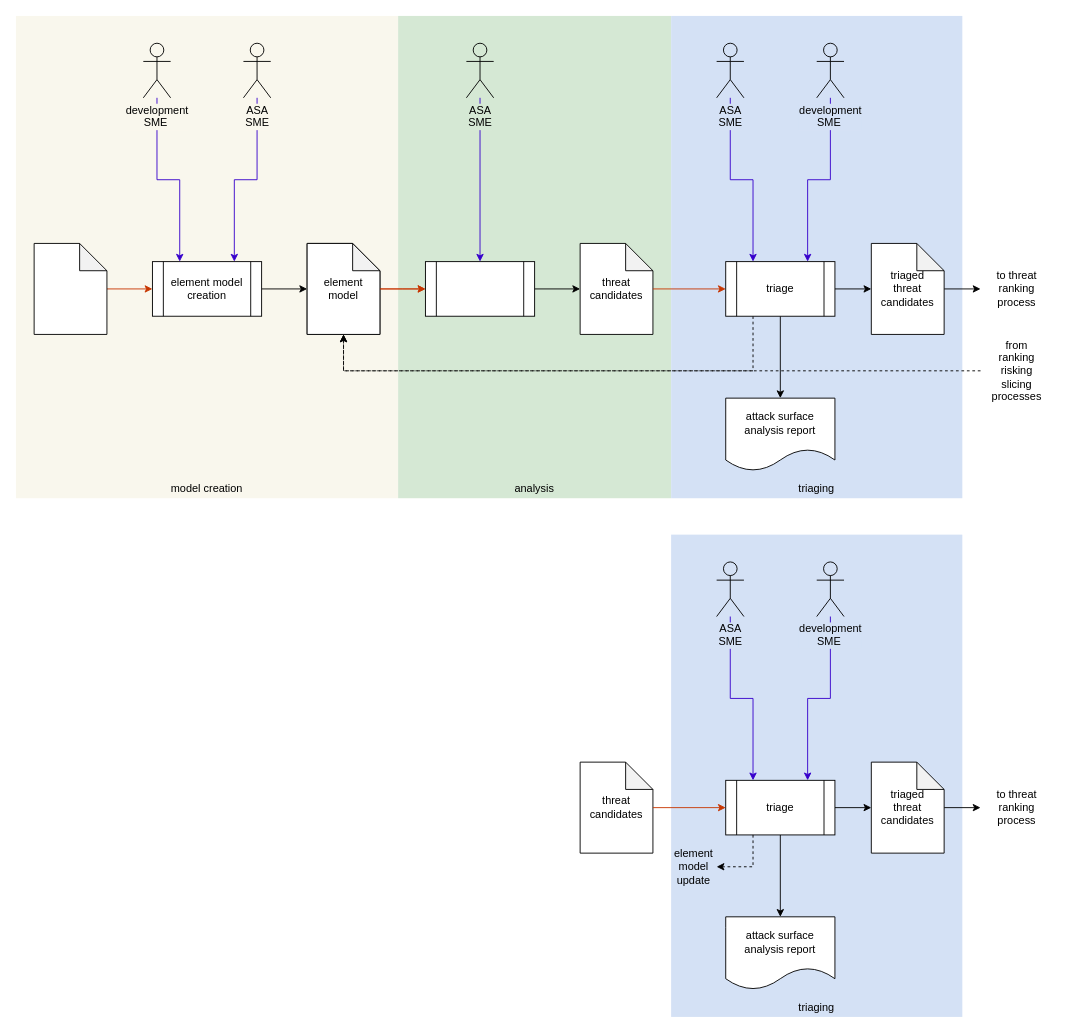
The diagram is 1068 pixels wide and 1032 high, and some of its shapes have lost their labels. Here are the shapes that lost their labels. From the top down, the box of each, then its label:
(33, 243, 107, 334): system documentation
(425, 261, 535, 316): surface analysis
